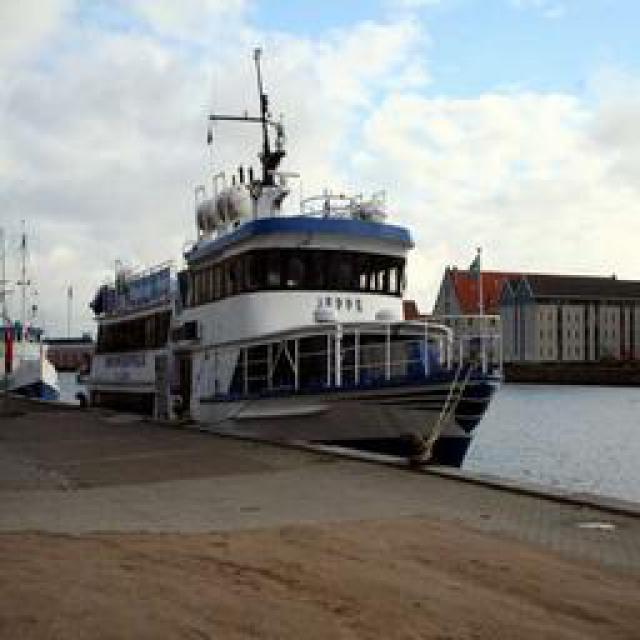Ship: (164, 37, 497, 470)
